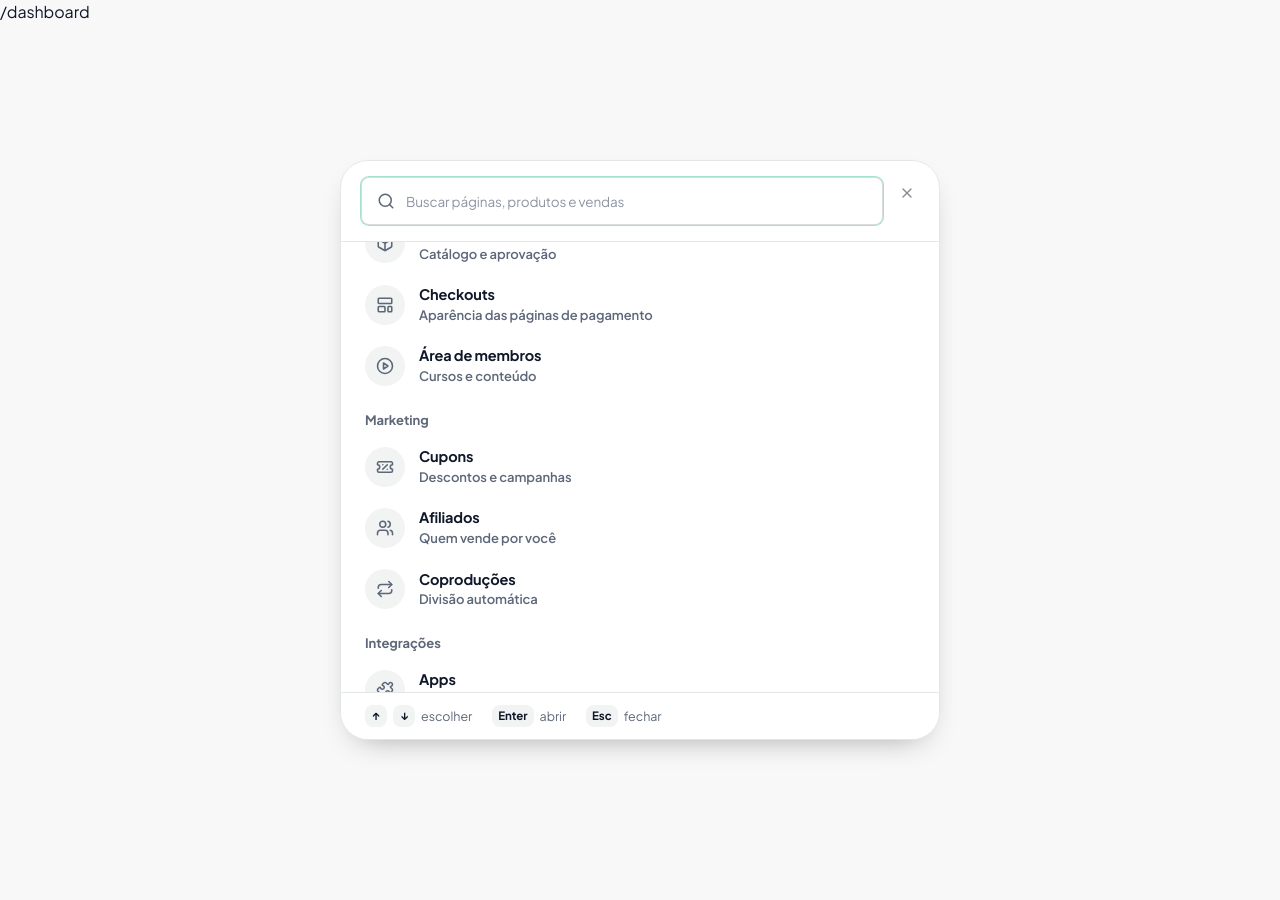
Test: diálogo de busca › clicar num resultado abre a página
(page scrolled)
What coordinates should you click on to do the following:
click the option "Cupons Descontos e campanhas"
I would click on:
 (385, 467)
Its box is [353,436,927,497].
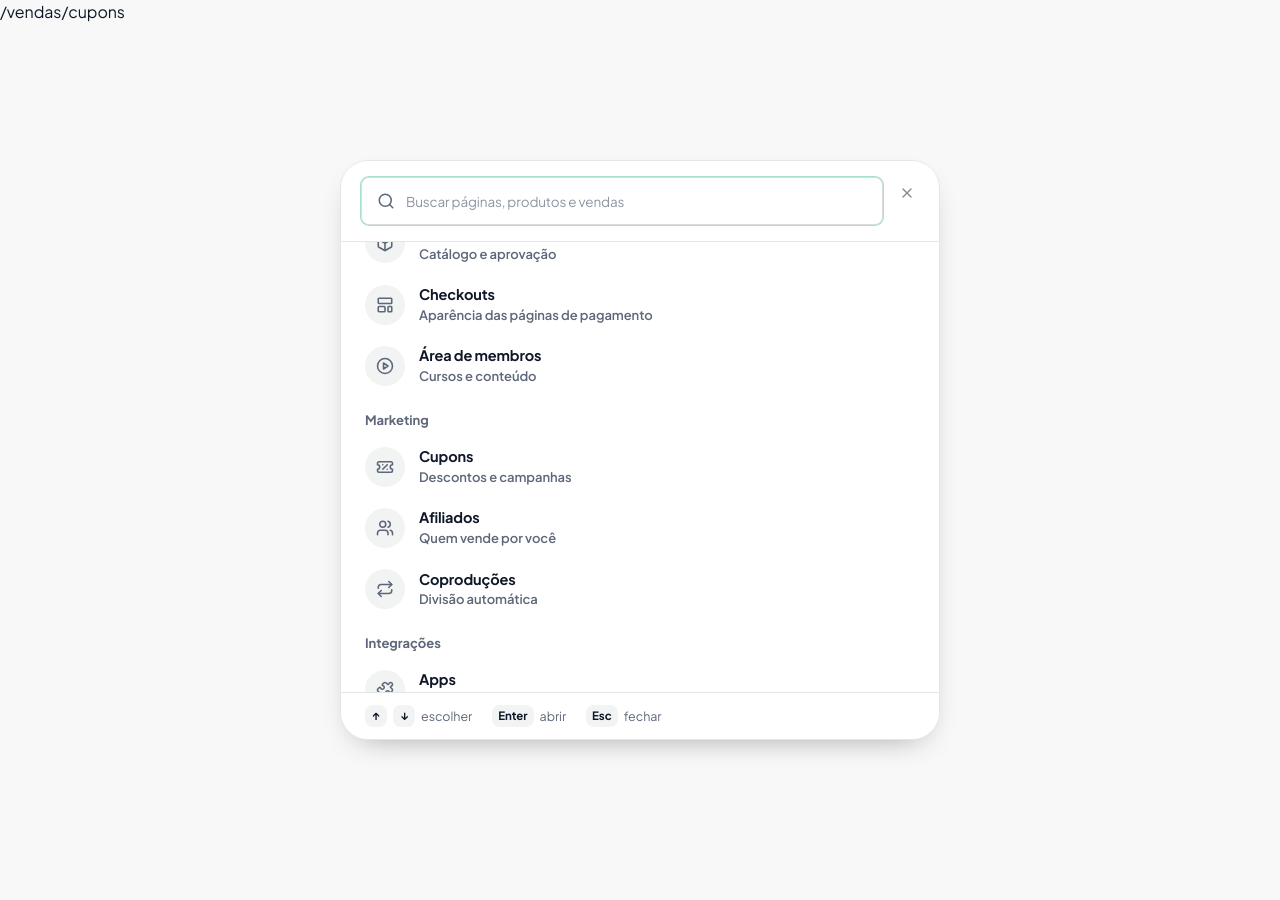
Result: the text with test id "where" reads "/vendas/cupons" at [0,1,125,22]
